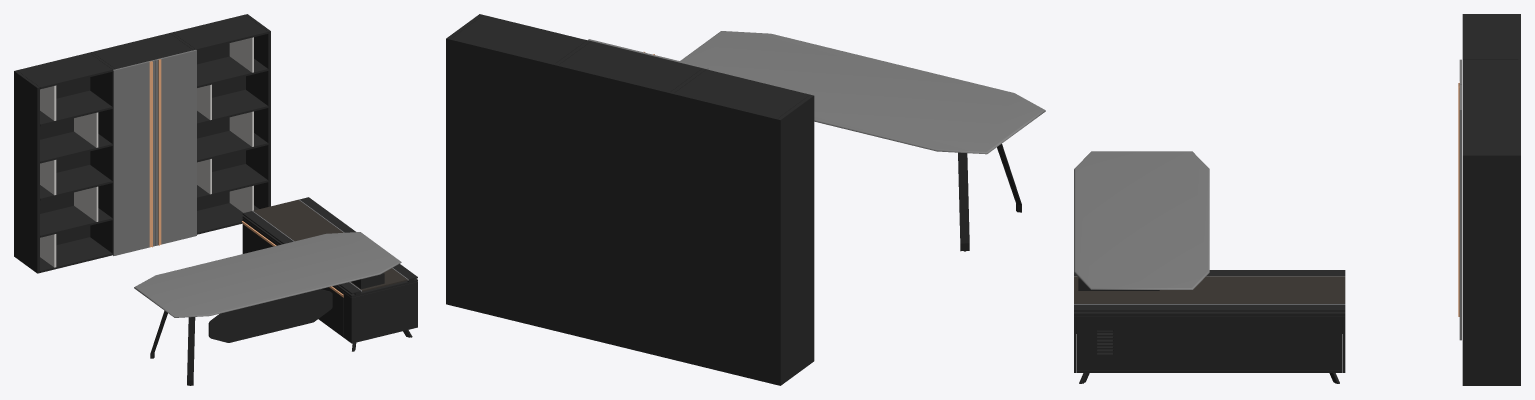
File: HARROW EXECUTIVE DESK.fbx
3 views of the same model, side by side, from view 1: azimuth 30°, elevation 25°; view 2: azimuth 150°, elevation 25°; view 3: azimuth 270°, elevation 25° (orthographic). The views are drawn at different scales.
Parts seen in each view (by area): view 1: Line004, Box121, Box138, Box090, Box091, Rectangle009, Box054, Box092, Box094, Box045, Box096, Box097 (+30 smaller); view 2: Box090, Line004, Box091, Box119, Box096, Box097, Rectangle007; view 3: Line004, Rectangle008, Box092, Box045, Box119, Box096, Box097, Box050, Box046, Box090, Box065, Box051 (+2 smaller).
Boxes of the visible parts, <box> form: Line004: <box>134,232,401,317</box>; Box121: <box>113,60,155,255</box>; Box138: <box>155,49,196,245</box>; Box090: <box>14,14,248,256</box>; Box091: <box>15,71,39,273</box>; Rectangle009: <box>208,289,332,342</box>; Box054: <box>353,282,417,342</box>; Box092: <box>246,15,270,208</box>; Box094: <box>90,53,114,254</box>; Box045: <box>253,199,407,291</box>; Box096: <box>18,53,112,89</box>; Box097: <box>174,15,268,50</box>; Box090: <box>446,37,781,385</box>; Line004: <box>680,31,1045,154</box>; Box091: <box>778,94,814,384</box>; Box119: <box>559,41,701,91</box>; Box096: <box>675,69,809,117</box>; Box097: <box>452,15,586,63</box>; Rectangle007: <box>958,152,969,251</box>; Line004: <box>1074,151,1209,289</box>; Rectangle008: <box>1077,316,1342,370</box>; Box092: <box>1462,154,1518,385</box>; Box045: <box>1074,276,1345,303</box>; Box119: <box>1462,61,1518,108</box>; Box096: <box>1462,15,1518,59</box>; Box097: <box>1462,110,1518,153</box>; Box050: <box>1074,304,1345,311</box>; Box046: <box>1074,311,1345,315</box>; Box090: <box>1518,14,1520,385</box>; Box065: <box>1077,333,1342,372</box>; Box051: <box>1074,270,1345,275</box>.
Bounding box in the file's own units: 102 × 75.79 × 130.
